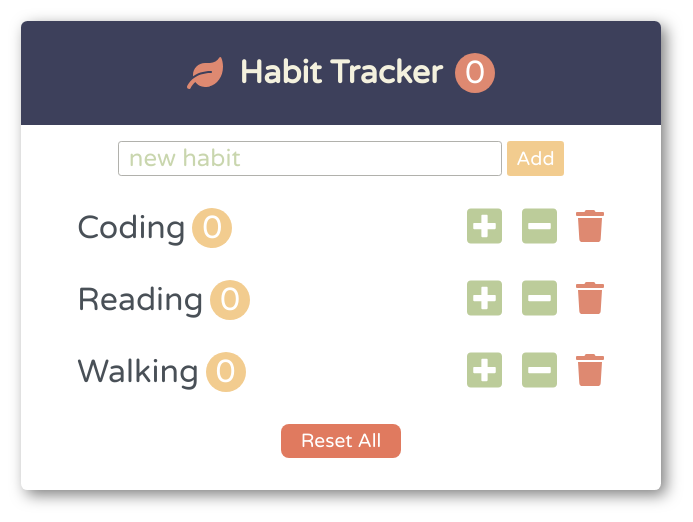
Habit Tracker › decrease count
Click the button titled "increase" in the row of "Coding": x=485, y=228 [461,204,508,251]
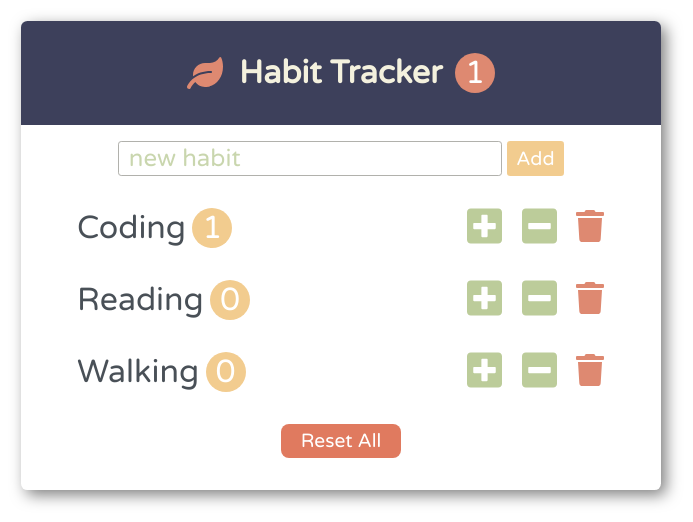
Click the button titled "decrease" in the row of "Coding": x=540, y=228 [516,204,563,251]
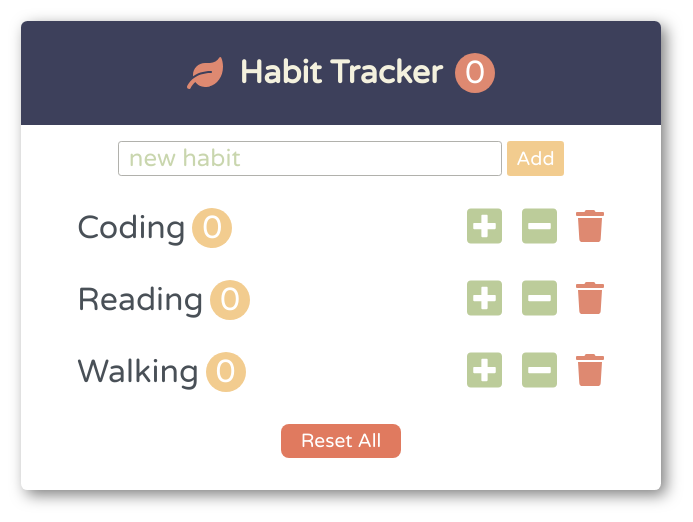
Now the text with test id "habit-count" next to "Coding" reads "0", box [192,208,232,248]
